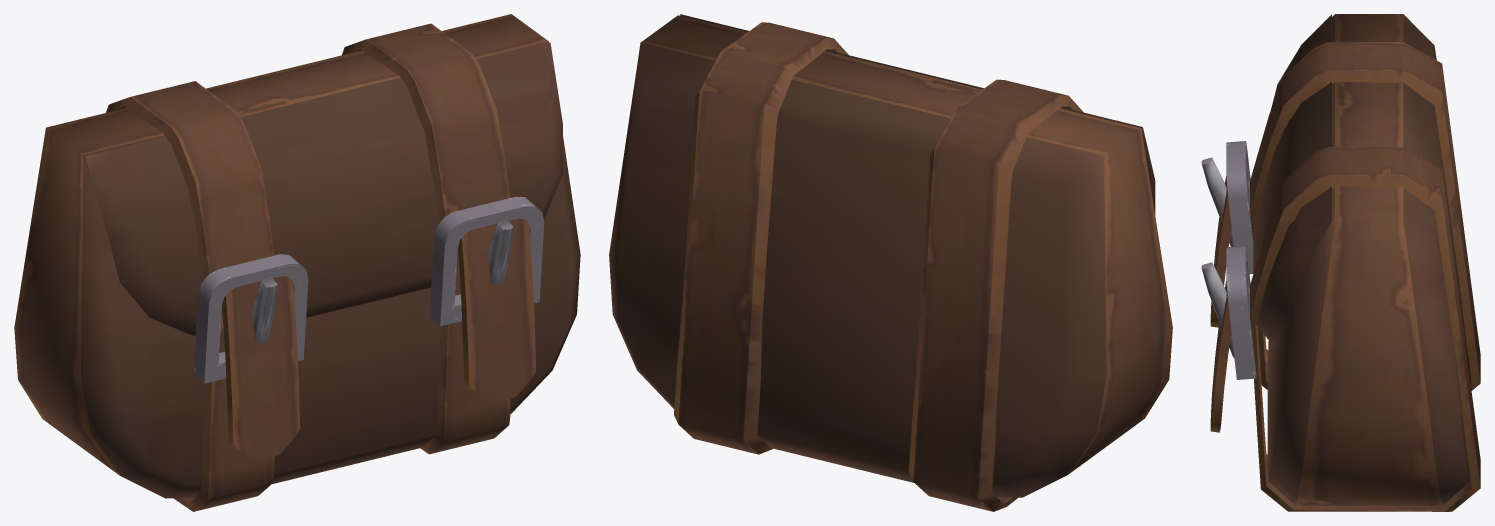
File: Pouch_Large.gltf
3 views of the same model, side by side, from view 1: azimuth 30°, elevation 25°; view 2: azimuth 150°, elevation 25°; view 3: azimuth 270°, elevation 25° (orthographic). The views are drawn at different scales.
Visible parts, largest first — view 1: Pouch_Large; view 2: Pouch_Large; view 3: Pouch_Large.
Part boxes in pixels (x1=…): Pouch_Large: x1=14, y1=14, x2=580, y2=511; Pouch_Large: x1=609, y1=14, x2=1172, y2=511; Pouch_Large: x1=1201, y1=14, x2=1480, y2=511.
Size of the model in its own units: 0.2255 by 0.1591 by 0.1198.
2 materials, 2 textured.
